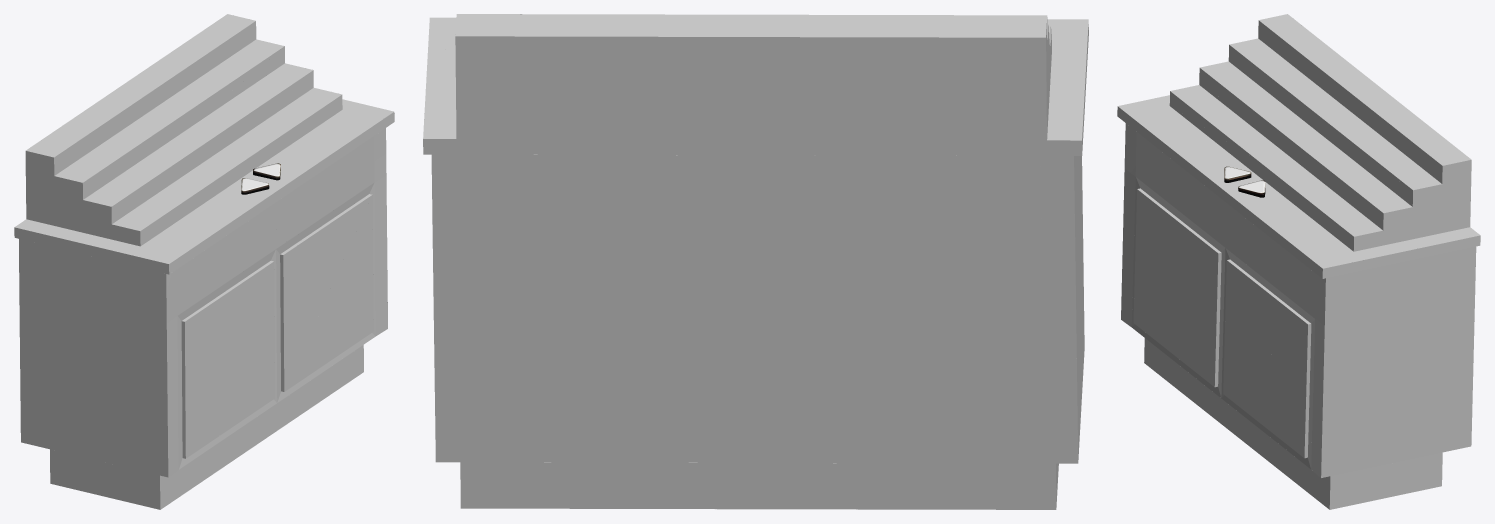
File: stand.glb
3 renders of one model, left to right at view 1: azimuth 30°, elevation 25°; view 2: azimuth 150°, elevation 25°; view 3: azimuth 270°, elevation 25°, orthographic. The views are drawn at different scales.
Visible parts, largest first — view 1: CandleHolder.021, CandleHolder.073, CandleHolder.009, CandleHolder.075, CandleHolder.074, CandleHolder.020, CandleHolder.056, CandleHolder.050, CandleHolder.044, CandleHolder.055, CandleHolder.042, CandleHolder.059 (+28 smaller); view 2: CandleHolder.023, CandleHolder.001, CandleHolder.034, CandleHolder.056, CandleHolder.009, CandleHolder.005, CandleHolder.021, CandleHolder.024; view 3: CandleHolder.010, CandleHolder.073, CandleHolder.009, CandleHolder.074, CandleHolder.075, CandleHolder.056, CandleHolder.050, CandleHolder.044, CandleHolder.055, CandleHolder.020, CandleHolder.043, CandleHolder.059 (+28 smaller).
Part boxes in pixels (x1,y1,x2,y2): CandleHolder.021: [19, 239, 168, 477]; CandleHolder.073: [185, 262, 274, 458]; CandleHolder.009: [15, 109, 382, 263]; CandleHolder.075: [284, 195, 373, 391]; CandleHolder.074: [283, 195, 372, 391]; CandleHolder.020: [160, 345, 363, 509]; CandleHolder.056: [26, 14, 255, 157]; CandleHolder.050: [83, 63, 313, 206]; CandleHolder.044: [112, 88, 341, 230]; CandleHolder.055: [55, 39, 284, 182]; CandleHolder.042: [25, 151, 140, 246]; CandleHolder.059: [177, 202, 276, 315]; CandleHolder.023: [431, 154, 1078, 463]; CandleHolder.001: [423, 36, 1082, 155]; CandleHolder.034: [460, 462, 1056, 509]; CandleHolder.056: [455, 14, 1047, 37]; CandleHolder.009: [1047, 19, 1088, 140]; CandleHolder.005: [423, 53, 456, 138]; CandleHolder.021: [1074, 156, 1084, 459]; CandleHolder.024: [1040, 156, 1073, 232]; CandleHolder.010: [1321, 246, 1476, 477]; CandleHolder.073: [1133, 189, 1218, 386]; CandleHolder.009: [1118, 95, 1353, 260]; CandleHolder.074: [1223, 260, 1307, 393]; CandleHolder.075: [1223, 325, 1307, 457]; CandleHolder.056: [1259, 14, 1471, 165]; CandleHolder.050: [1200, 61, 1412, 213]; CandleHolder.044: [1170, 85, 1382, 236]; CandleHolder.055: [1229, 38, 1441, 190]; CandleHolder.020: [1144, 338, 1330, 509]; CandleHolder.043: [1353, 160, 1471, 251]; CandleHolder.059: [1135, 132, 1225, 247].
Size of what is drawn, in the model's own units: 0.7054 by 0.546 by 0.5539.
2 materials, 1 textured.
